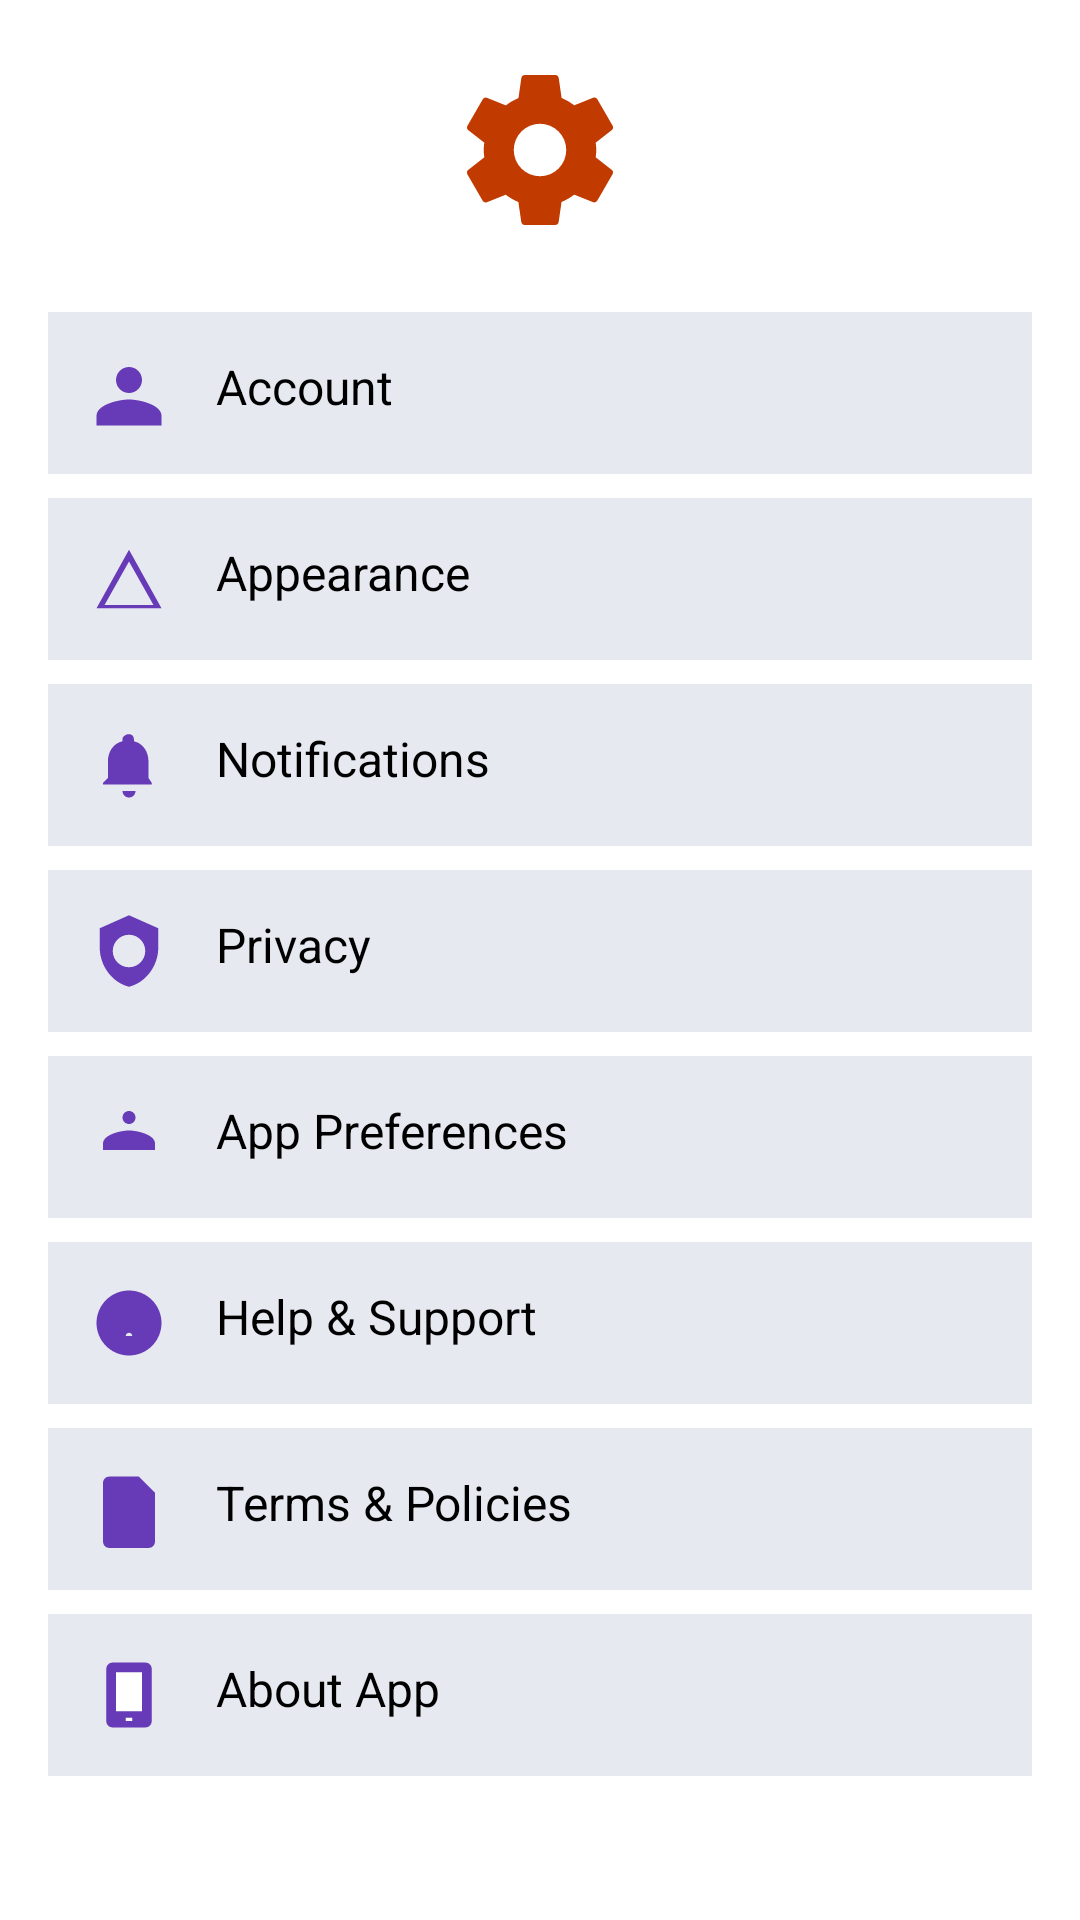

Where to tap for icons on this 1080*1920 app screen, as point (x, y):
settings: point (540, 150)
